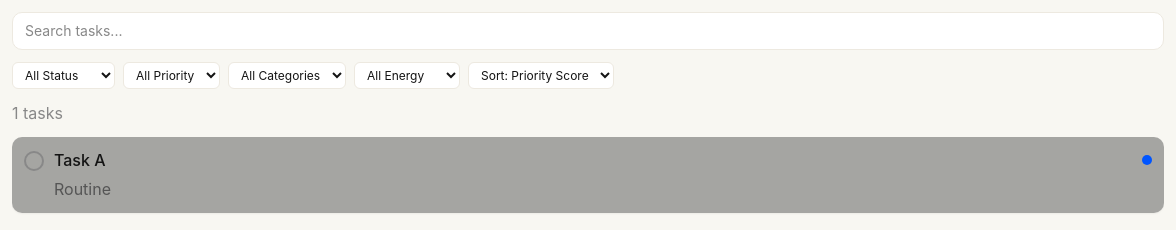
Test: AllTasksView › shows empty message when no tasks match filter
Step 1. Type "zzzzz" into the field with placeholder "Search tasks..." → {"x": 588, "y": 31}, box [12,12,1164,50]
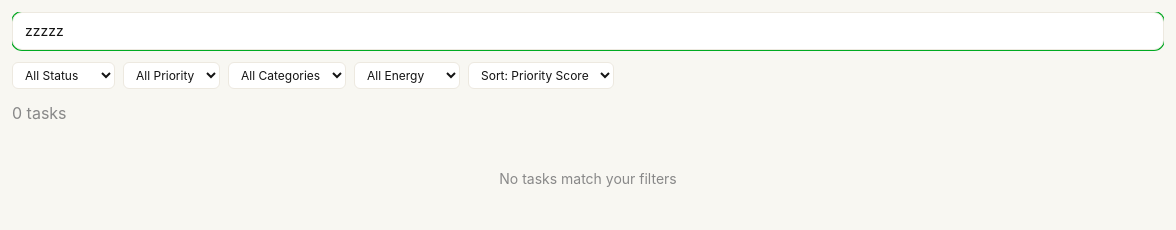
Now the text "No tasks match your filters" is shown, box [499,170,677,187]
